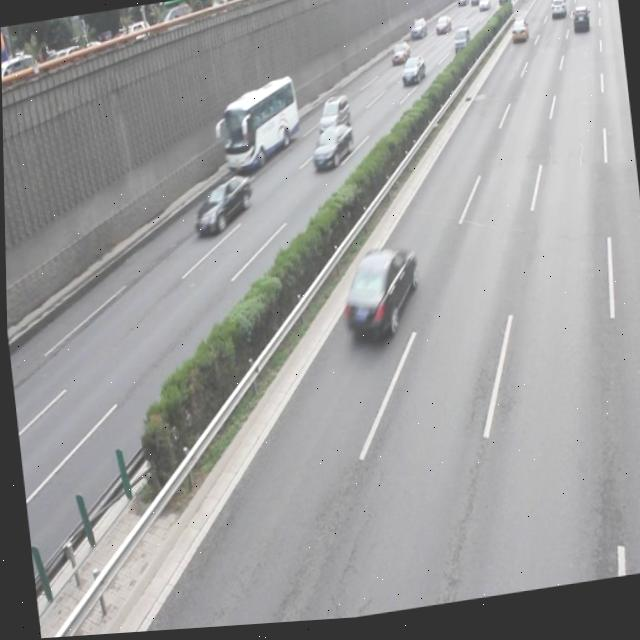car: (333, 246, 422, 346), (188, 173, 253, 239), (307, 126, 354, 176), (314, 95, 349, 139)
van: (216, 78, 300, 175)
